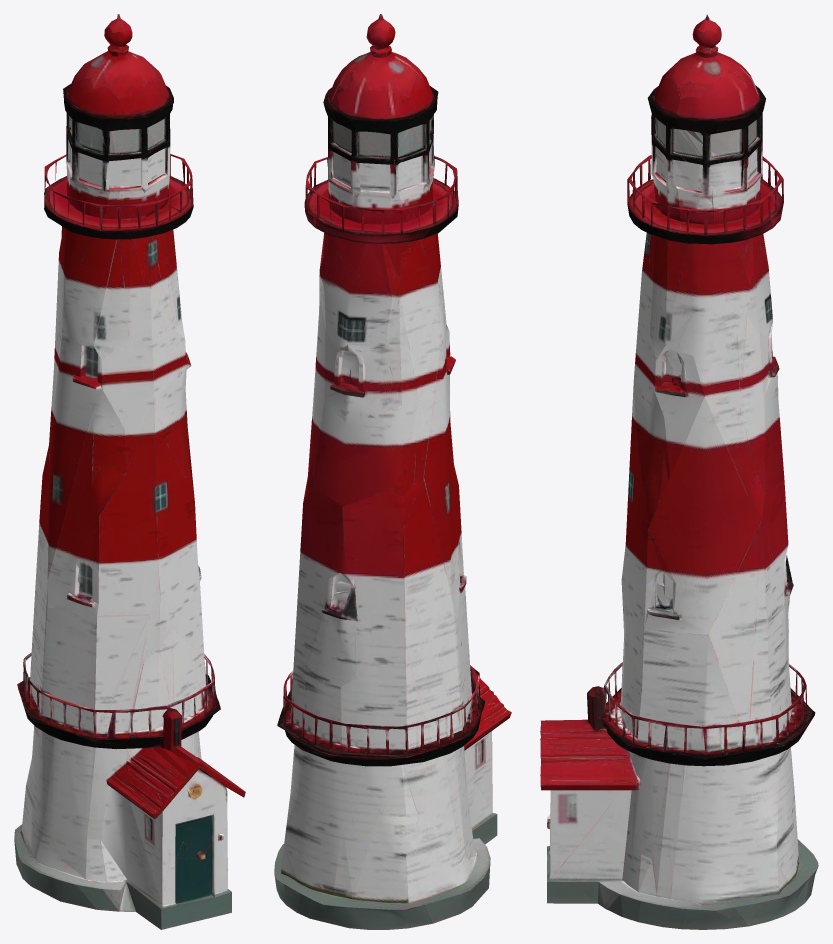
Rendered from lighthouse.glb.
3 views of the same model, side by side, from view 1: azimuth 30°, elevation 25°; view 2: azimuth 150°, elevation 25°; view 3: azimuth 270°, elevation 25° (orthographic). The views are drawn at different scales.
Size of the model in its own units: 0.4291 by 1.9 by 0.5495.
Materials: 1 (1 with a texture image).
